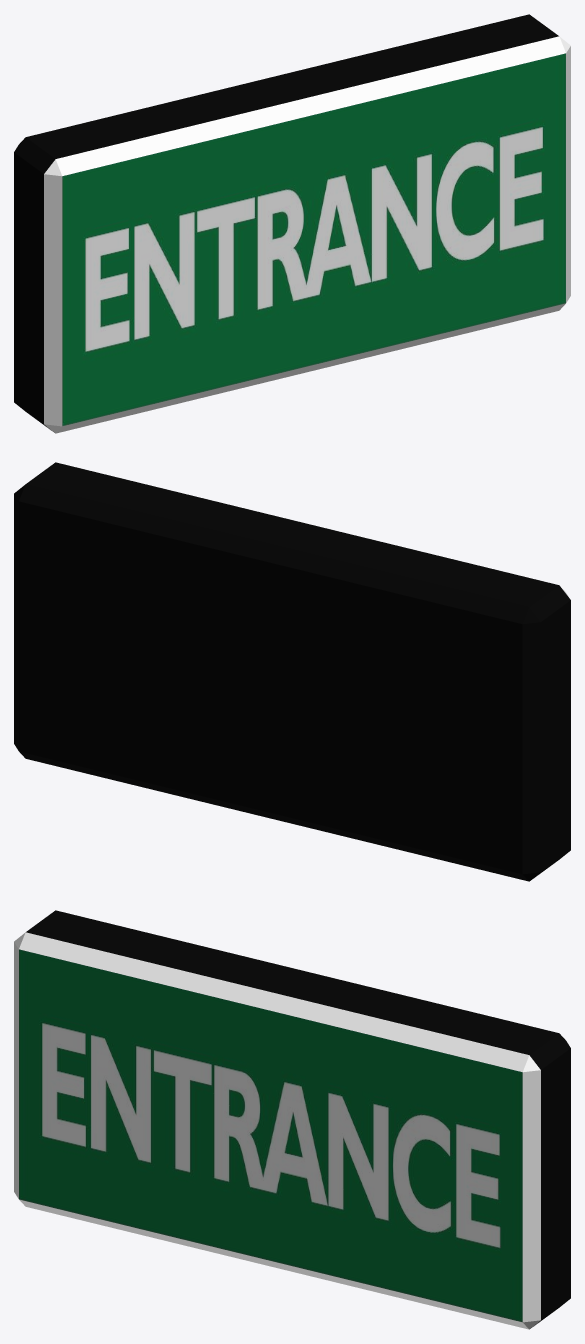
Rendered from Sign_Entrance.fbx.
The picture shows the model from 3 angles, top to bottom: view 1: azimuth 30°, elevation 25°; view 2: azimuth 150°, elevation 25°; view 3: azimuth 330°, elevation 25°; orthographic projection.
Parts seen in each view (by area): view 1: Entrance Sign; view 2: Entrance Sign; view 3: Entrance Sign.
Boxes of the visible parts, x1,y1,x2,y2 form: Entrance Sign: (14,14,570,433); Entrance Sign: (14,462,570,881); Entrance Sign: (14,910,570,1329).
Bounding box in the file's own units: 479 × 238 × 68.31.
